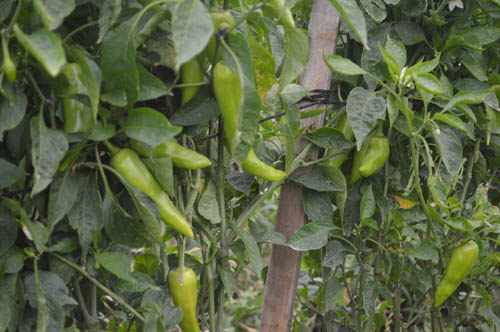ChiliPepper: (113, 151, 193, 238), (134, 134, 217, 173), (58, 65, 91, 162), (435, 244, 478, 307), (213, 64, 238, 145), (171, 270, 203, 327), (240, 142, 285, 181), (354, 136, 393, 180), (326, 112, 348, 182)
